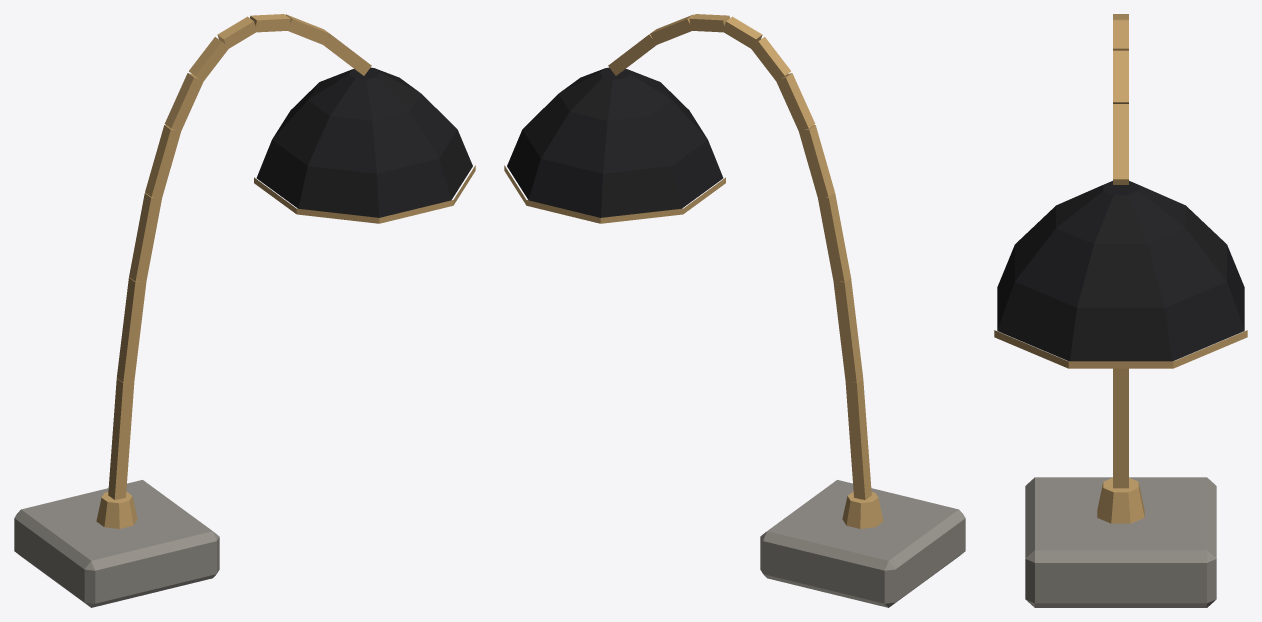
3 renders of one model, left to right at view 1: azimuth 30°, elevation 25°; view 2: azimuth 150°, elevation 25°; view 3: azimuth 270°, elevation 25°, orthographic. The views are drawn at different scales.
Parts seen in each view (by area): view 1: furniture_16_lamp_epic_arc; view 2: furniture_16_lamp_epic_arc; view 3: furniture_16_lamp_epic_arc.
Part boxes in pixels (x1,y1,x2,y2): furniture_16_lamp_epic_arc: (14, 14, 475, 607); furniture_16_lamp_epic_arc: (504, 14, 965, 607); furniture_16_lamp_epic_arc: (994, 14, 1247, 607).
Bounding box in the file's own units: 1.81 × 2.2 × 0.7984.
